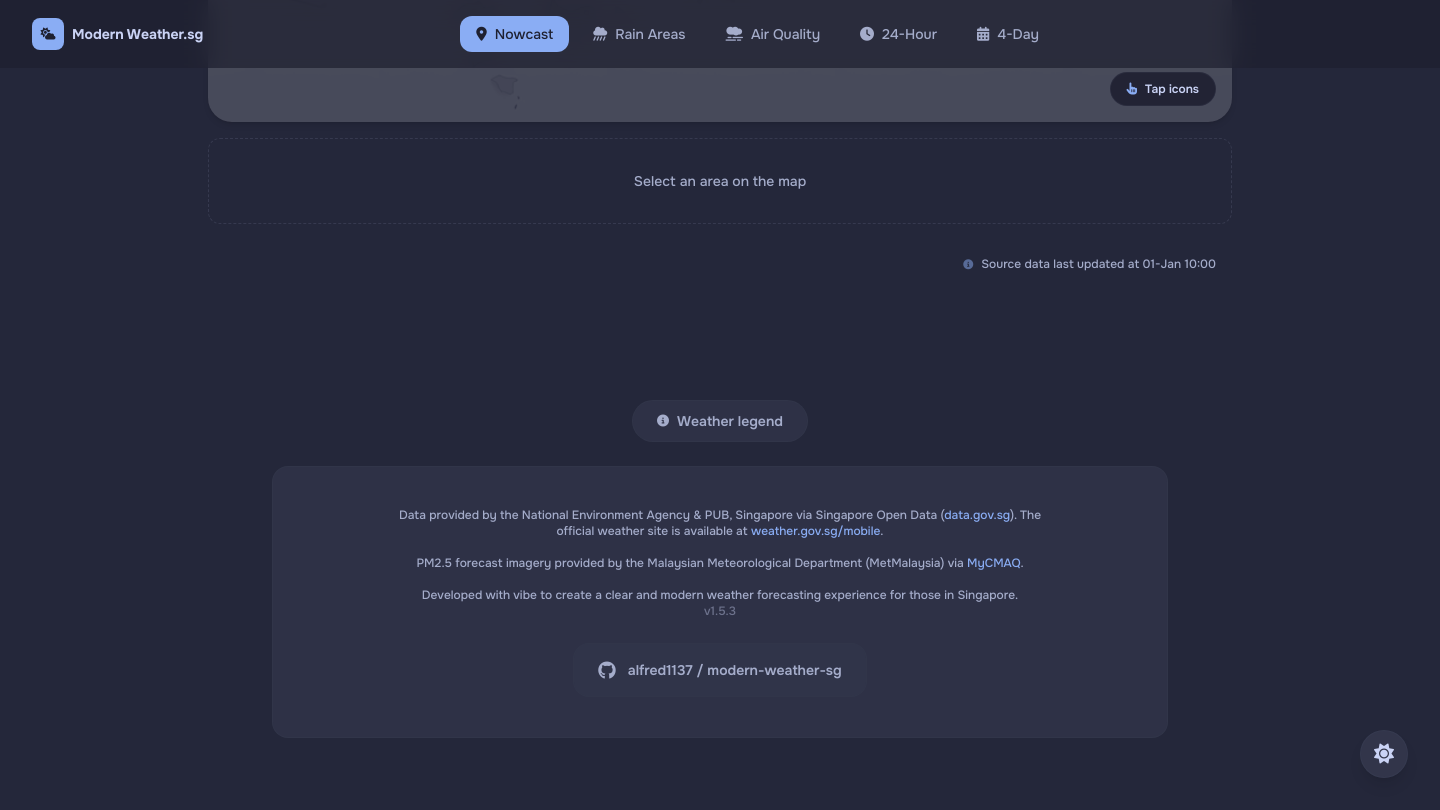
Test: App › opens the legend modal from the footer
This screenshot has width=1440, height=810.
(page scrolled)
Click the button "Weather legend" at (720, 421), box [632,400,808,442]
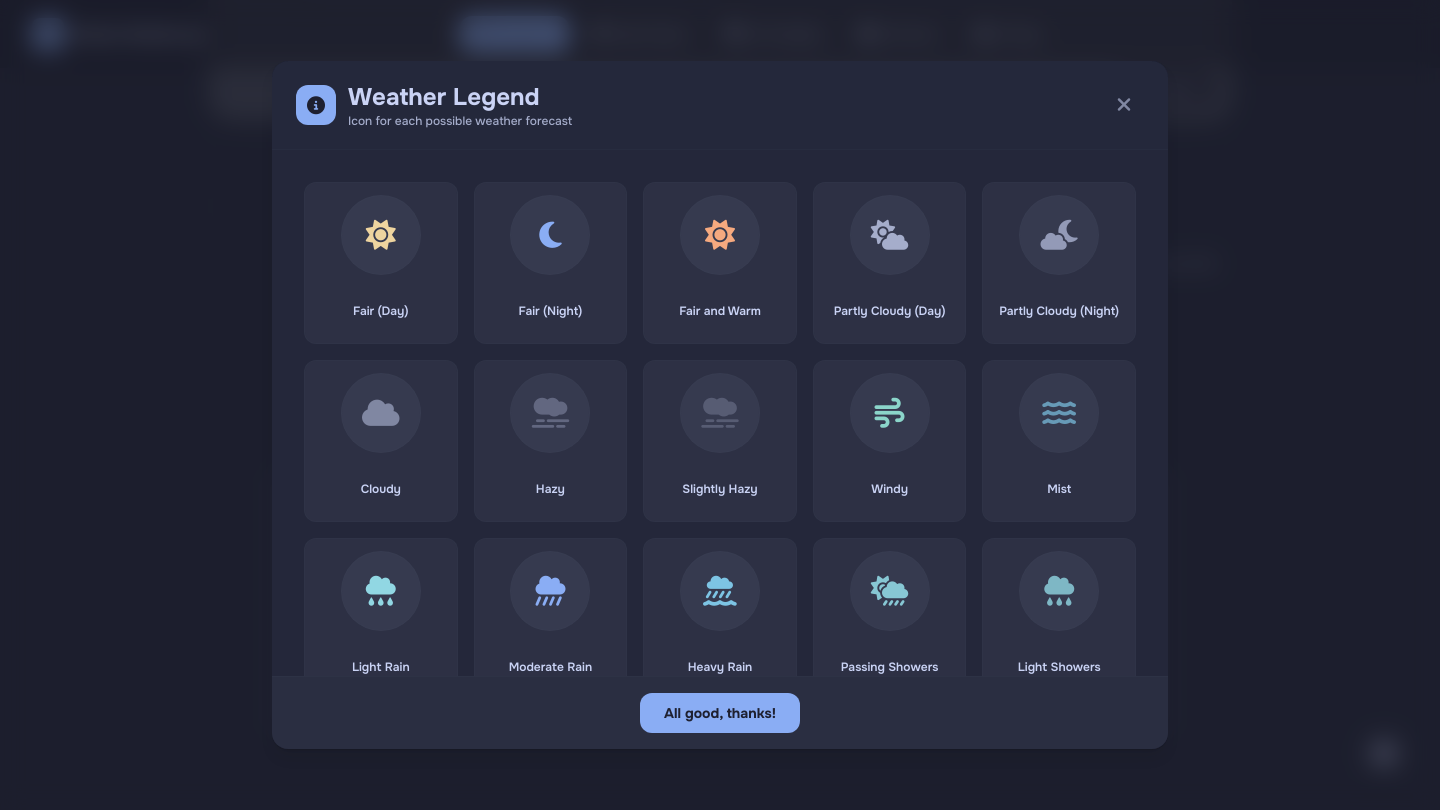
Now the heading "Weather Legend" is shown, box [348,81,572,113]
